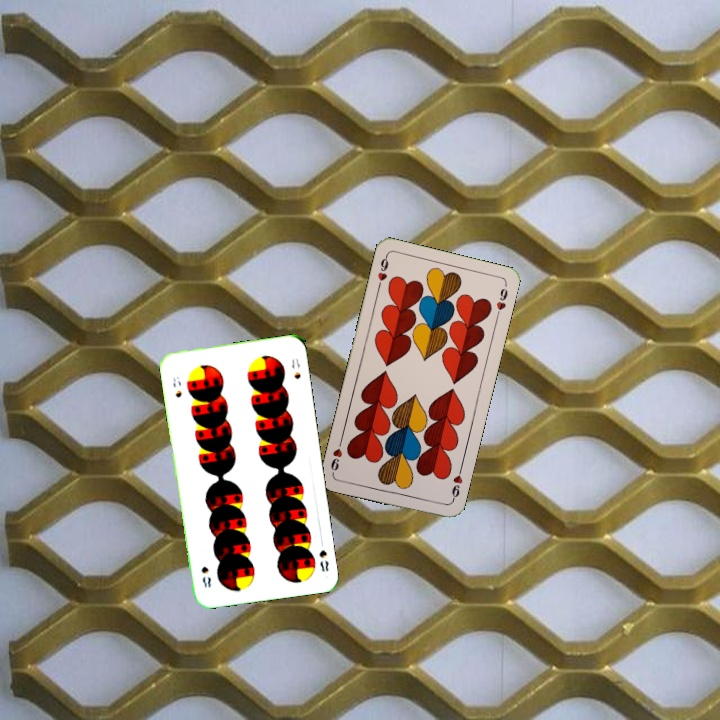H9: (373, 252, 391, 292), (448, 464, 465, 504)
S8: (315, 535, 331, 574), (169, 373, 184, 400)
